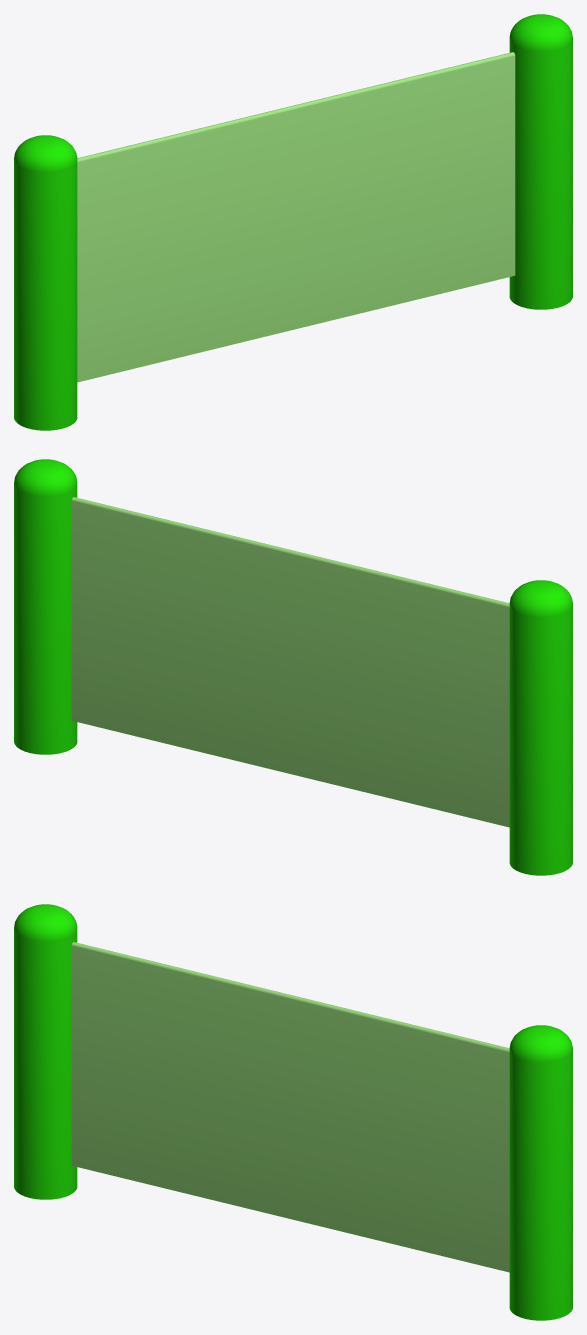
Rendered from Gate.fbx.
3 views of the same model, one above another, from view 1: azimuth 30°, elevation 25°; view 2: azimuth 150°, elevation 25°; view 3: azimuth 330°, elevation 25° (orthographic).
Visible parts, largest first — view 1: Panel, Pillar; view 2: Panel, Pillar; view 3: Panel, Pillar.
Boxes of the visible parts, bbox=[...] form: Panel: bbox=[77, 52, 515, 382]; Pillar: bbox=[14, 14, 572, 430]; Panel: bbox=[71, 497, 509, 827]; Pillar: bbox=[14, 459, 572, 875]; Panel: bbox=[71, 942, 509, 1272]; Pillar: bbox=[14, 904, 572, 1320].
Size of the model in its own units: 500 by 240 by 50.
